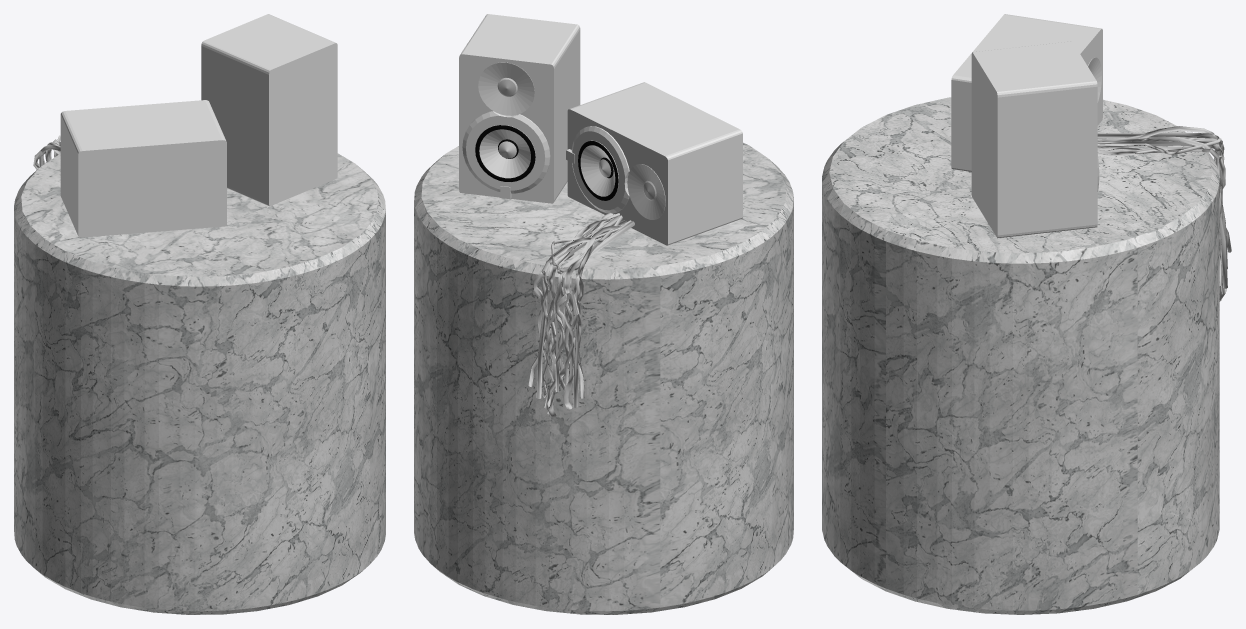
File: speakers.gltf
3 renders of one model, left to right at view 1: azimuth 30°, elevation 25°; view 2: azimuth 150°, elevation 25°; view 3: azimuth 270°, elevation 25°, orthographic. The views are drawn at different scales.
Parts seen in each view (by area): view 1: Cylinder.005, Cube, Cube.001; view 2: Cylinder.005, Cube.001, Cube, vines; view 3: Cylinder.005, Cube, Cube.001, vines.
Boxes of the visible parts, x1,y1,x2,y2 form: Cylinder.005: (14, 153, 385, 614); Cube: (201, 14, 337, 206); Cube.001: (60, 100, 226, 237); Cylinder.005: (414, 142, 793, 614); Cube.001: (566, 82, 742, 245); Cube: (459, 14, 580, 203); vines: (528, 213, 634, 417); Cylinder.005: (822, 97, 1219, 614); Cube: (971, 41, 1099, 238); Cube.001: (951, 14, 1102, 171); vines: (1097, 126, 1231, 301).
Size of the model in its own units: 0.9988 by 1.41 by 1.03.
